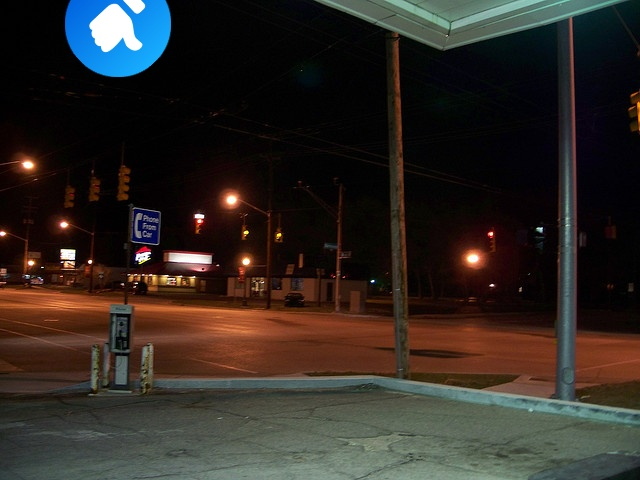like: (65, 0, 171, 77)
